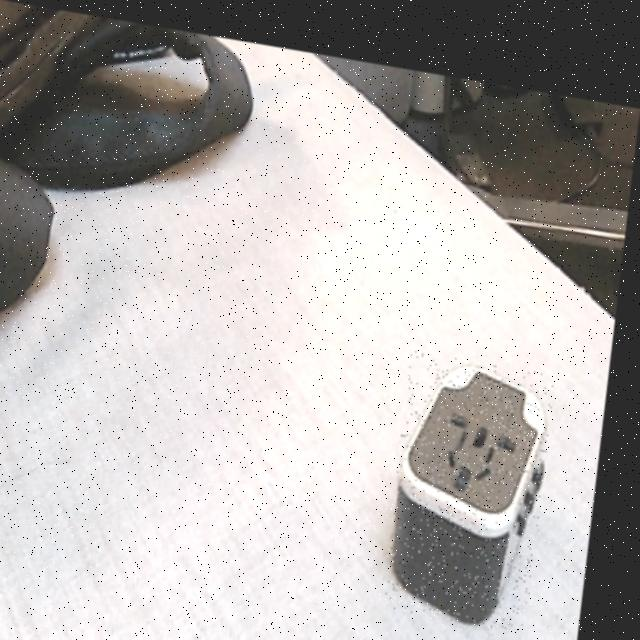adapter: (394, 335, 562, 612)
